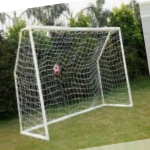goals: (12, 24, 134, 141)
